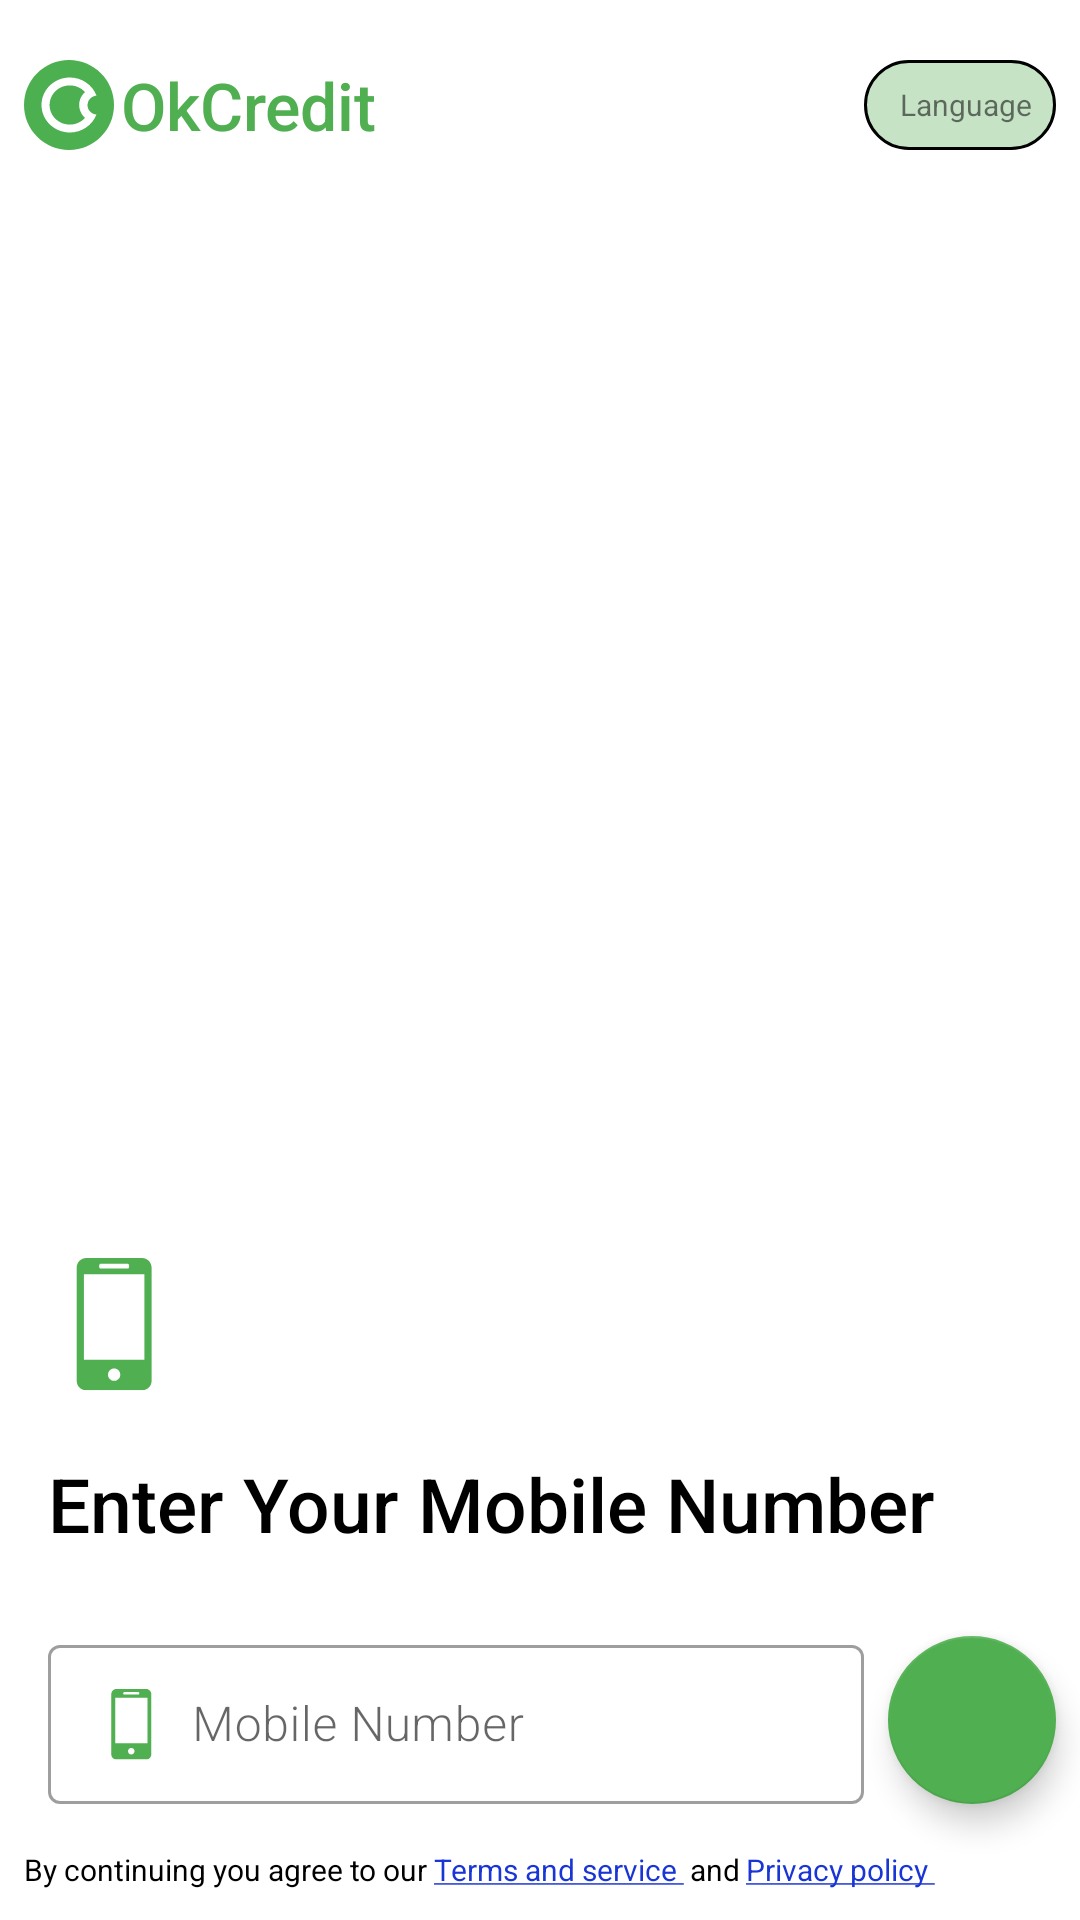

Screen size 1080px×1920px. Icon name, then its box in pixels as (x1, y1, x2, y2):
cell phone: (76, 1258, 152, 1390)
